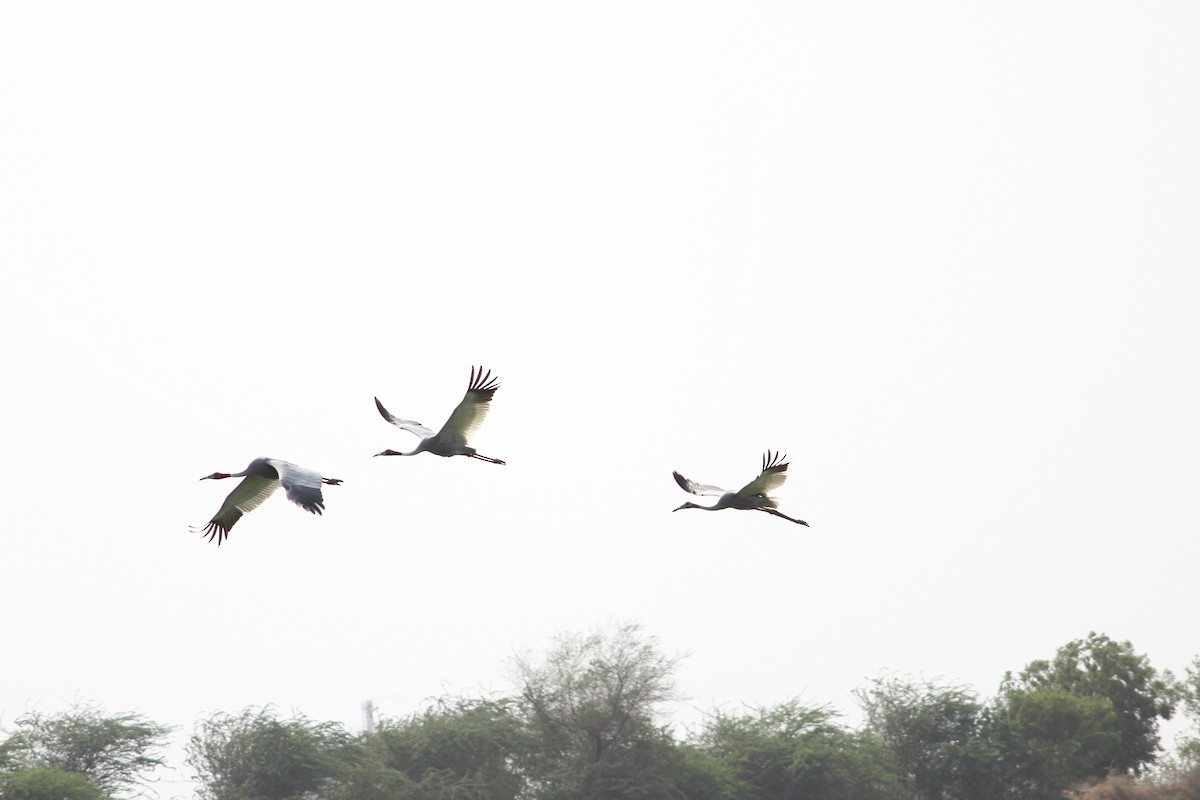crane: (371, 356, 516, 479), (663, 447, 824, 535), (195, 451, 346, 541)
